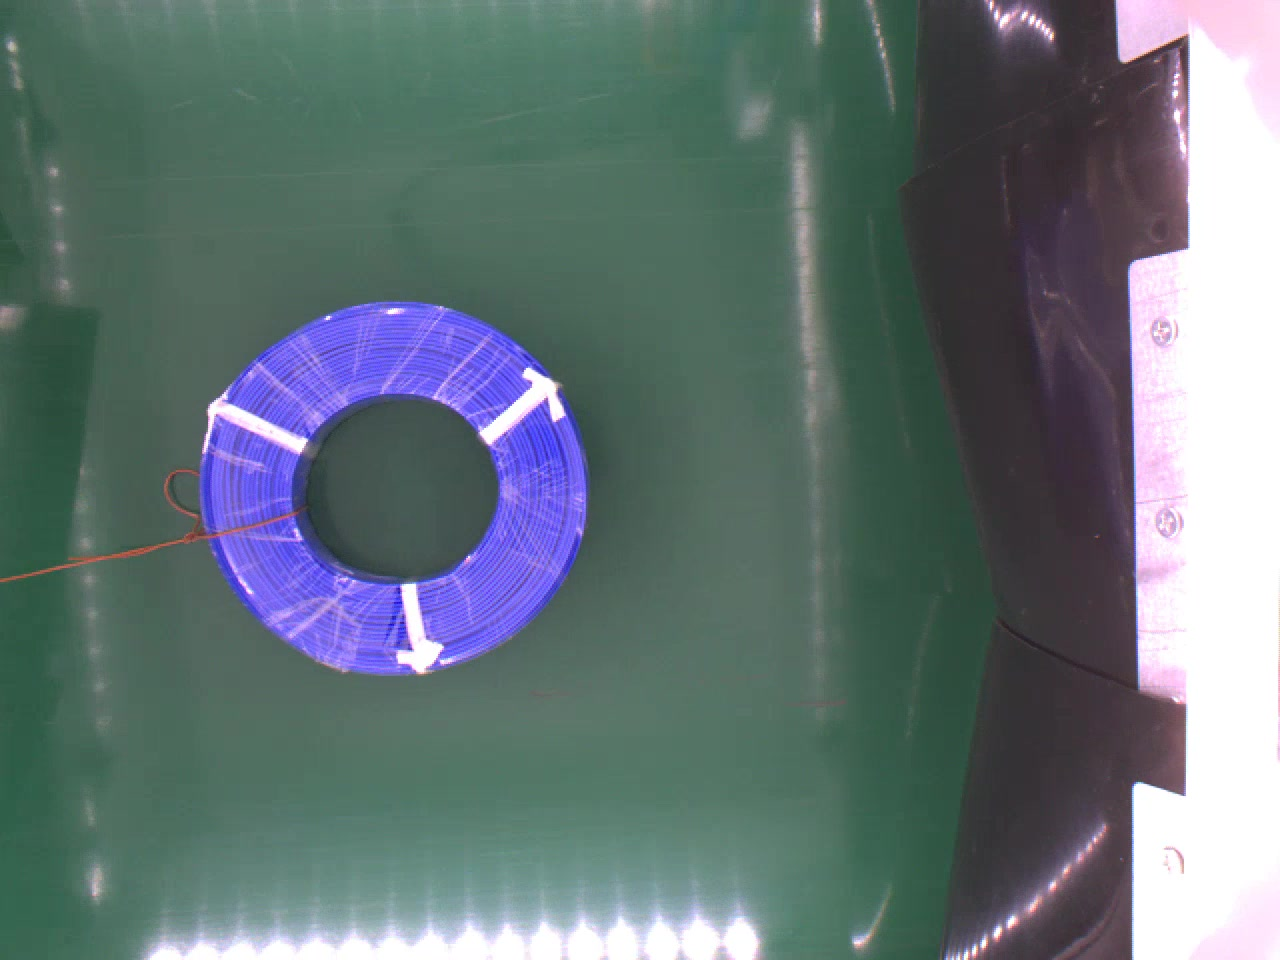blue: (191, 295, 592, 681)
